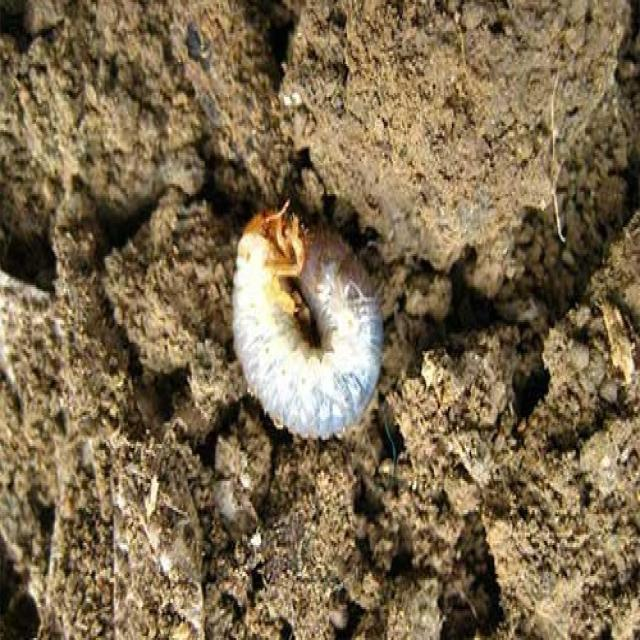grub: (233, 200, 384, 442)
